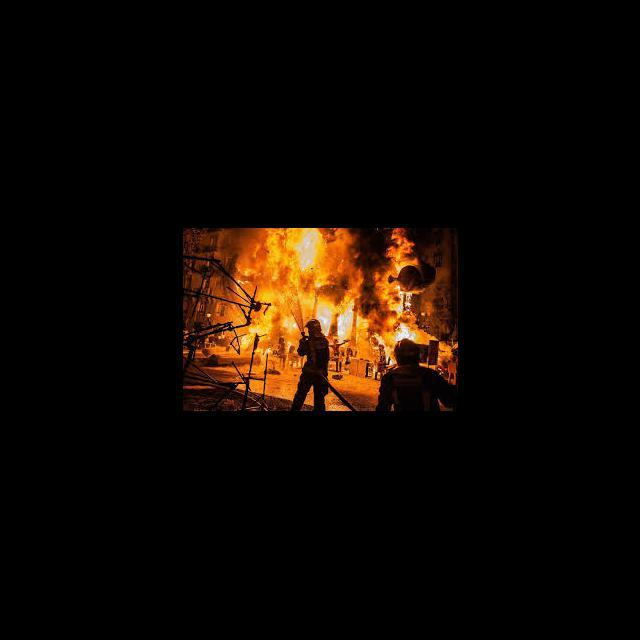Fire: (242, 228, 352, 280), (238, 282, 301, 351), (381, 290, 419, 342), (334, 294, 366, 350), (382, 228, 421, 272), (310, 289, 334, 333), (370, 333, 392, 368)
